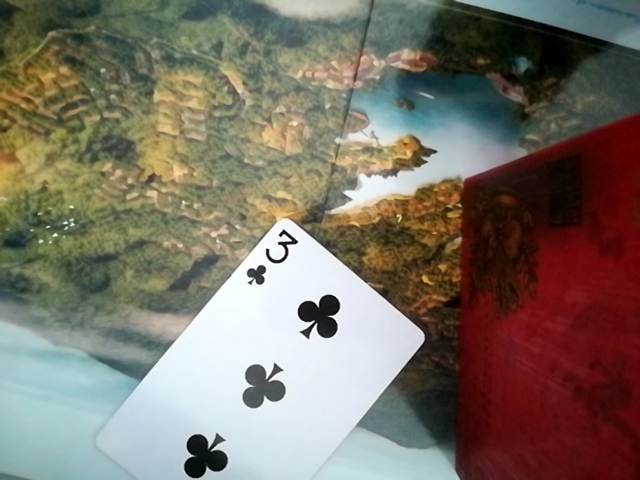mh 3: (110, 220, 432, 479)
